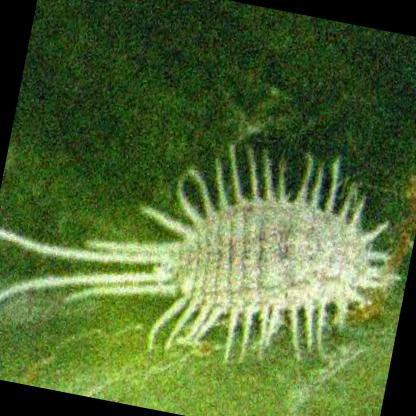mealy bug: (0, 148, 385, 348)
